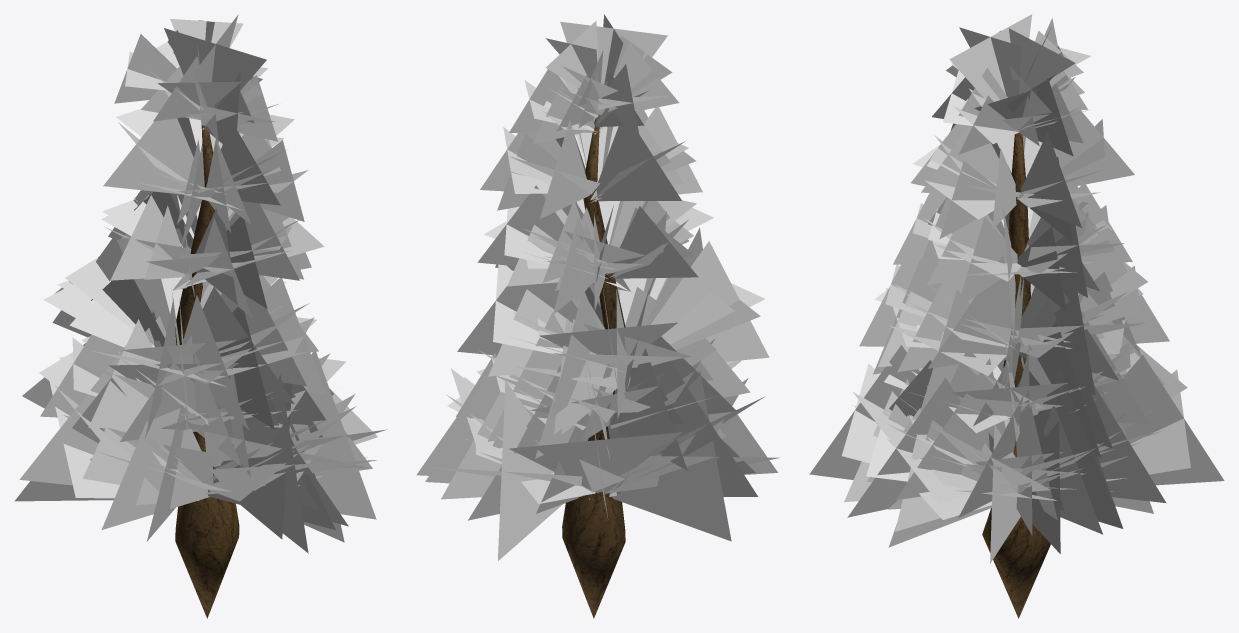
3 views of the same model, side by side, from view 1: azimuth 30°, elevation 25°; view 2: azimuth 150°, elevation 25°; view 3: azimuth 270°, elevation 25° (orthographic).
Parts seen in each view (by area): view 1: tree_LOD0; view 2: tree_LOD0; view 3: tree_LOD0.
Boxes of the visible parts, x1,y1,x2,y2 form: tree_LOD0: (14,14,386,618); tree_LOD0: (416,14,779,618); tree_LOD0: (809,14,1224,618).
Size of what is drawn, in the model's own units: 849 by 1526 by 970.
